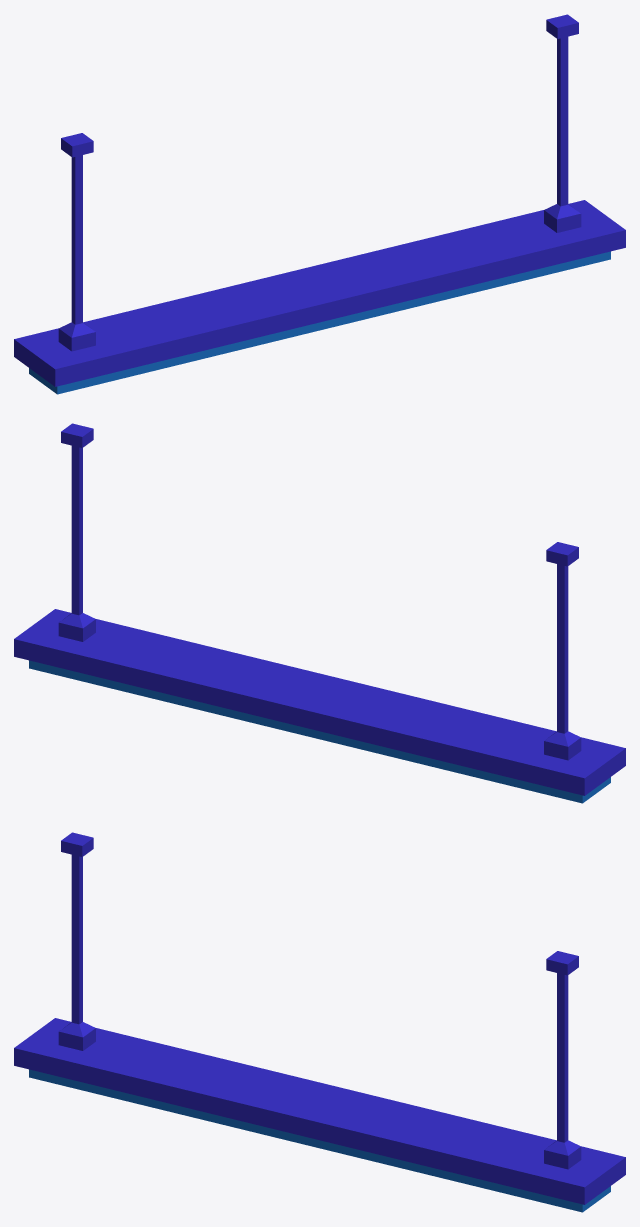
File: SM_lamp3.fbx
3 renders of one model, top to bottom at view 1: azimuth 30°, elevation 25°; view 2: azimuth 150°, elevation 25°; view 3: azimuth 330°, elevation 25°, orthographic.
Visible parts, largest first — view 1: lamp3; view 2: lamp3; view 3: lamp3.
Boxes of the visible parts, bbox=[...] form: lamp3: bbox=[14, 14, 625, 394]; lamp3: bbox=[14, 423, 625, 803]; lamp3: bbox=[14, 832, 625, 1212].
Bounding box in the file's own units: 200 × 79.11 × 25.
